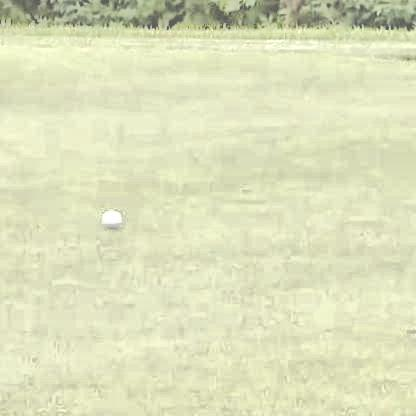golfball: (97, 205, 120, 228)
